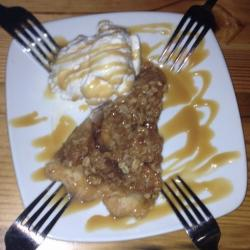apple_pie: (46, 70, 182, 212)
icecream: (40, 24, 151, 105)
